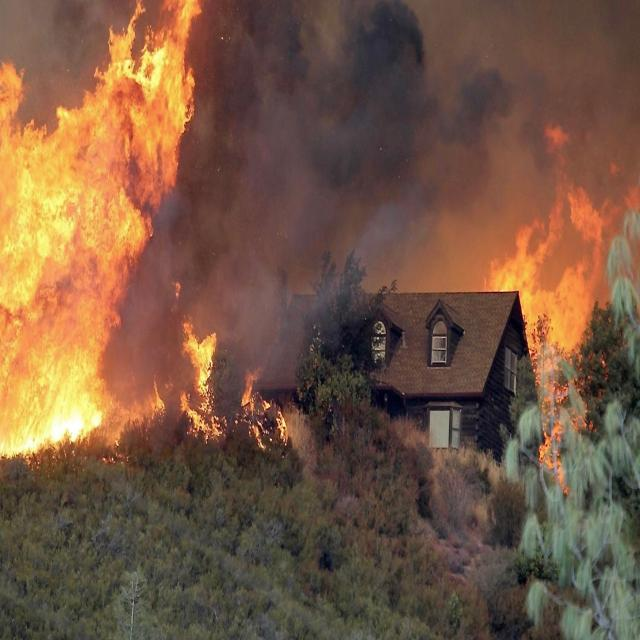Fire: (0, 16, 188, 463), (483, 178, 630, 344), (538, 362, 596, 482), (180, 325, 229, 445), (242, 386, 293, 458)
Smoke: (147, 0, 496, 313), (469, 8, 640, 177)
